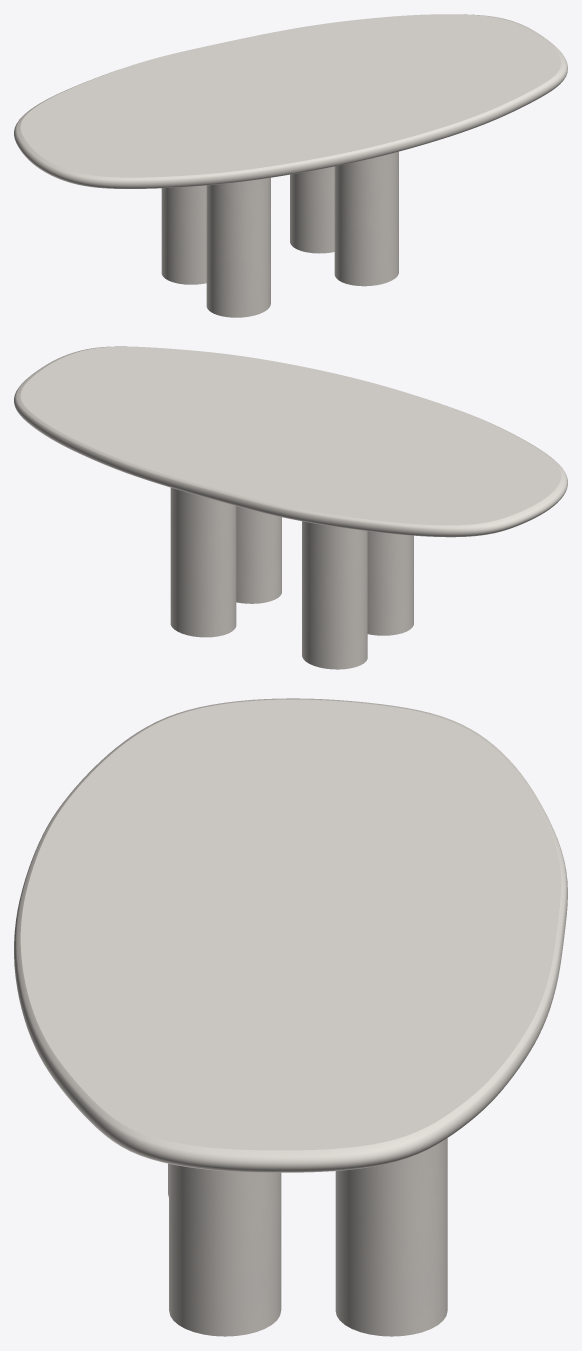
The model's file is pearlwhite_danish_round_grove.glb.
The picture shows the model from 3 angles, top to bottom: view 1: azimuth 30°, elevation 25°; view 2: azimuth 150°, elevation 25°; view 3: azimuth 270°, elevation 25°; orthographic projection. The views are drawn at different scales.
Visible parts, largest first — view 1: round_danish, grove; view 2: round_danish, grove; view 3: round_danish, grove.
Boxes of the visible parts, x1,y1,x2,y2 form: round_danish: (14, 14, 567, 188); grove: (161, 151, 398, 317); round_danish: (14, 346, 567, 537); grove: (170, 488, 413, 669); round_danish: (14, 698, 567, 1172); grove: (168, 1138, 447, 1336).
Bounding box in the file's own units: 7.5 × 2.51 × 3.8.
1 material, 1 textured.
